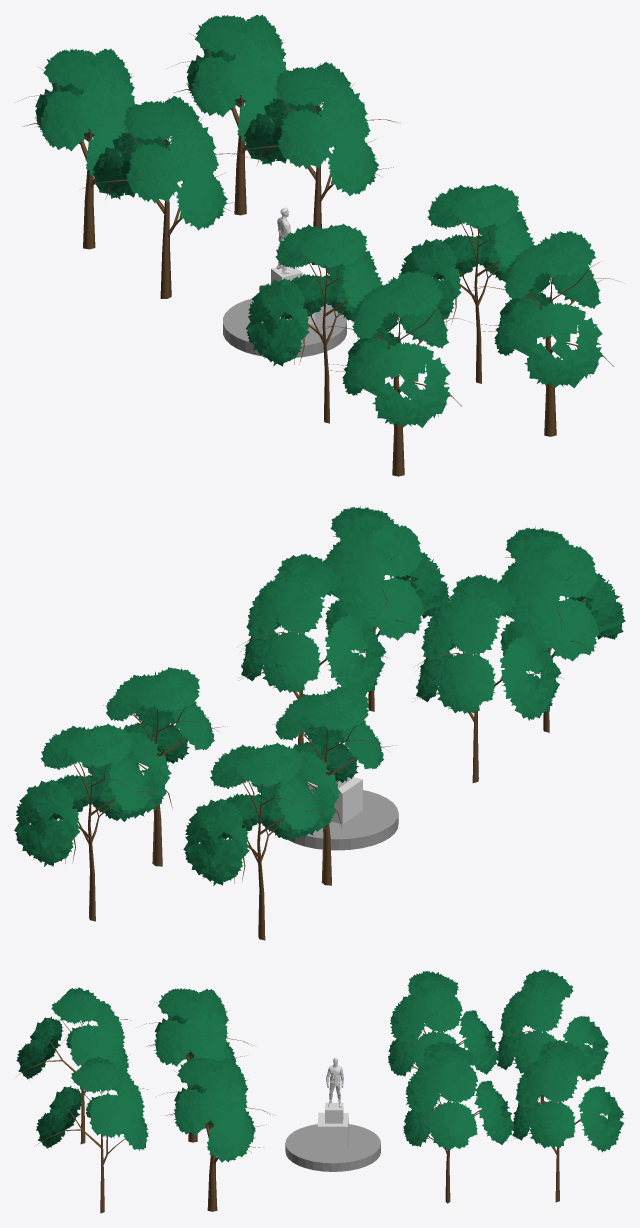
The model's file is 2nd_Statue.glb.
3 views of the same model, one above another, from view 1: azimuth 30°, elevation 25°; view 2: azimuth 150°, elevation 25°; view 3: azimuth 270°, elevation 25° (orthographic). The views are drawn at different scales.
Visible parts, largest first — view 1: Leaves_1, Leaves_1.006, Leaves_1.001, Leaves_1.004, Leaves_1.002, Leaves_1.005, Leaves_1.003, Cylinder, Trunk_0.001, Trunk_0.004, Trunk_0.006, Trunk_0 (+3 smaller); view 2: Leaves_1, Leaves_1.006, Leaves_1.001, Leaves_1.003, Leaves_1.005, Leaves_1.004, Leaves_1.002, Cylinder, Trunk_0.005, Trunk_0.003, Cube, Trunk_0.002 (+1 smaller); view 3: Leaves_1, Leaves_1.002, Leaves_1.003, Leaves_1.004, Leaves_1.005, Leaves_1.001, Leaves_1.006, Cylinder, Trunk_0.001, Cube, Trunk_0, Object_2 (+1 smaller).
Part boxes in pixels (box(x1,y1,x2,y2)): Leaves_1: box(246, 184, 534, 366); Leaves_1.006: box(342, 270, 450, 427); Leaves_1.001: box(494, 231, 602, 388); Leaves_1.004: box(92, 96, 227, 230); Leaves_1.002: box(244, 61, 379, 196); Leaves_1.005: box(35, 48, 134, 176); Leaves_1.003: box(186, 14, 286, 144); Cylinder: box(223, 298, 346, 357); Trunk_0.001: box(315, 262, 621, 476); Trunk_0.004: box(82, 118, 250, 298); Trunk_0.006: box(294, 260, 363, 423); Trunk_0: box(446, 220, 514, 383); Leaves_1: box(241, 554, 561, 720); Leaves_1.006: box(498, 526, 625, 661); Leaves_1.001: box(323, 506, 449, 640); Leaves_1.003: box(14, 723, 151, 866); Leaves_1.005: box(183, 742, 321, 885); Leaves_1.004: box(275, 686, 383, 837); Leaves_1.002: box(106, 667, 214, 818); Cylinder: box(287, 790, 398, 850); Trunk_0.005: box(234, 780, 323, 940); Trunk_0.003: box(65, 761, 154, 921); Cube: box(308, 777, 362, 824); Trunk_0.002: box(103, 704, 227, 866); Leaves_1: box(154, 988, 255, 1162); Leaves_1.002: box(403, 1041, 513, 1150); Leaves_1.003: box(512, 1040, 623, 1152); Leaves_1.004: box(388, 971, 498, 1076); Leaves_1.005: box(497, 969, 608, 1081); Leaves_1.001: box(36, 1056, 148, 1150); Leaves_1.006: box(16, 987, 128, 1079); Cylinder: box(285, 1124, 380, 1171); Trunk_0.001: box(16, 1019, 148, 1213); Cube: box(317, 1112, 348, 1150); Trunk_0: box(161, 1071, 273, 1211); Object_2: box(326, 1058, 343, 1107).
Size of the model in its own units: 56.31 by 39.25 by 128.
